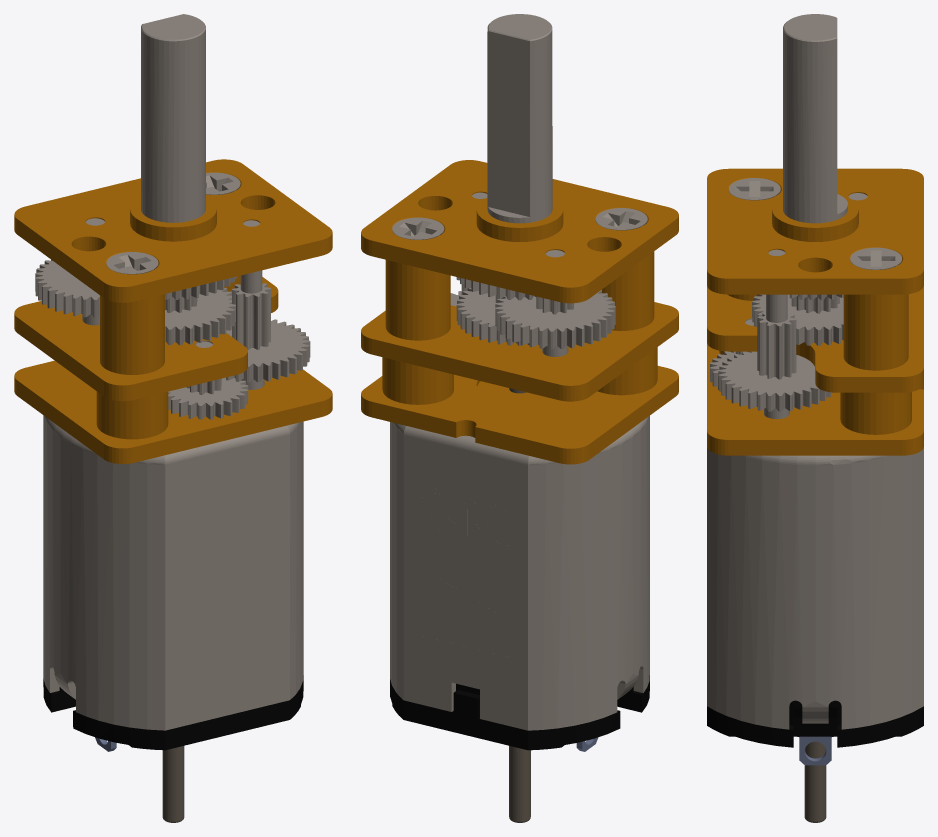
The model's file is pololu-micro-metal-gearmotor.glb.
The picture shows the model from 3 angles, left to right: view 1: azimuth 30°, elevation 25°; view 2: azimuth 150°, elevation 25°; view 3: azimuth 270°, elevation 25°; orthographic projection.
Parts seen in each view (by area): view 1: pololu-micro-metal-gearmotor; view 2: pololu-micro-metal-gearmotor; view 3: pololu-micro-metal-gearmotor.
Boxes of the visible parts, left/top/right/bottom form: pololu-micro-metal-gearmotor: left=14, top=14, right=332, bottom=822; pololu-micro-metal-gearmotor: left=361, top=14, right=678, bottom=822; pololu-micro-metal-gearmotor: left=707, top=14, right=923, bottom=822.
Bounding box in the file's own units: 12 × 40.3 × 10.
